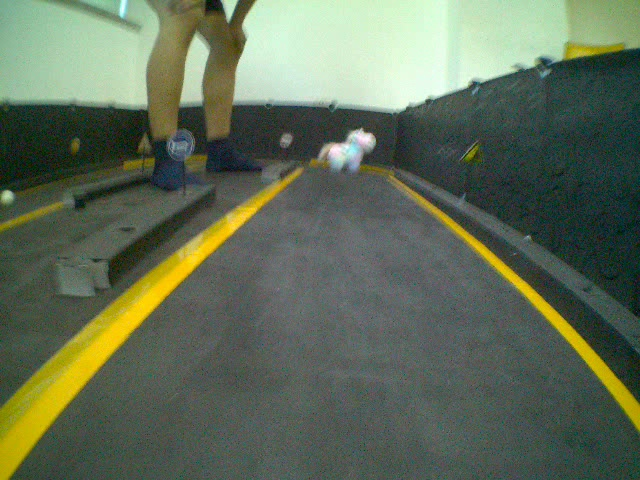ball: (1, 185, 17, 205)
unicorn: (319, 122, 380, 175)
